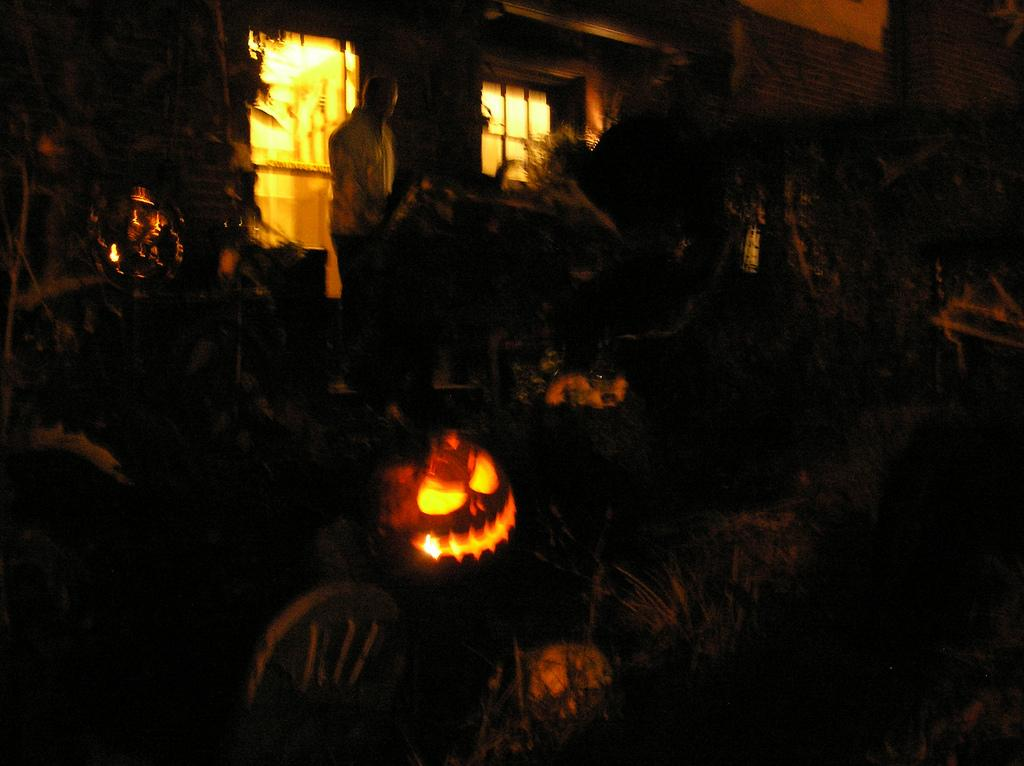fire: (262, 46, 334, 170), (506, 100, 532, 170)
